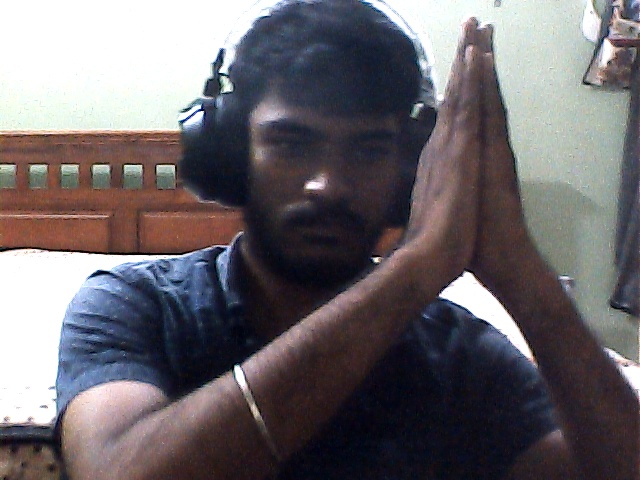Sign: (407, 15, 536, 303)
